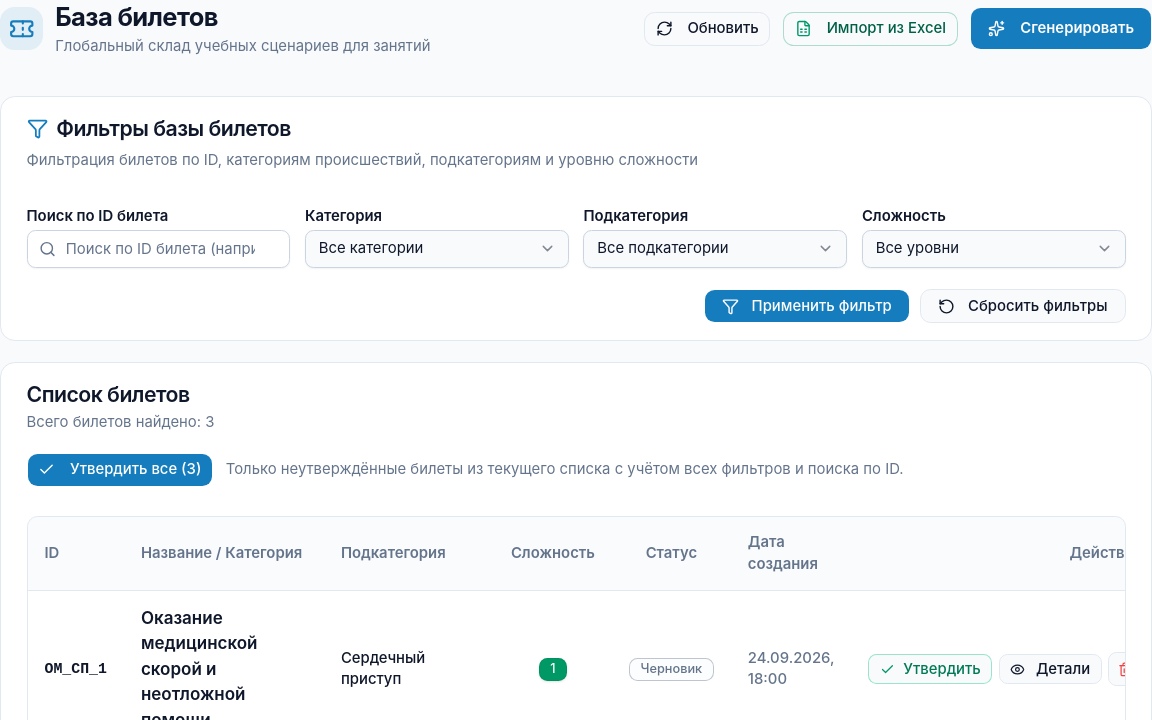
27.2 / ТЗ 30: База билетов и генерация › should open details modal with plot, and allow audio playback in details
Click details button for first ticket
Click the button "Детали" at (1050, 669), box [999,654,1102,684]
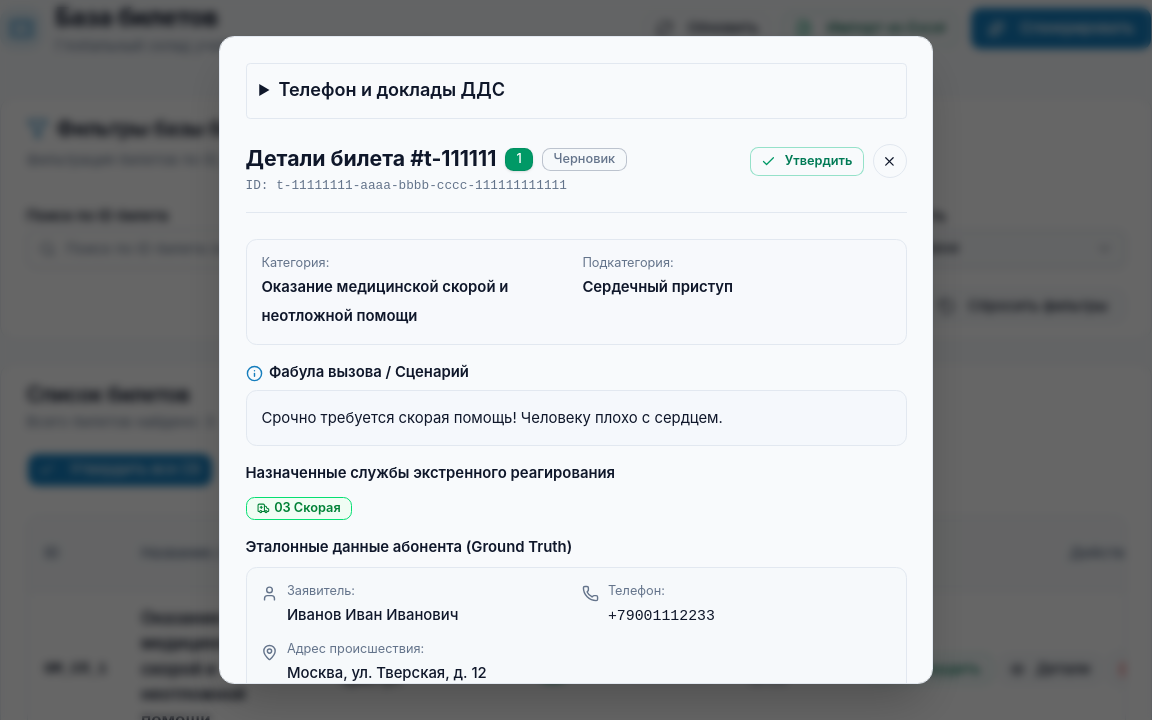
Expected: the dialog is shown
Expected: the text "Срочно требуется скорая помощь! Человеку плохо с сердцем." is shown, [246,390,906,446]
Expected: the text "+79001112233" is shown, [608,608,715,624]
Close modal
Click the button named "Закрыть" at (890, 161), box [872,144,906,178]
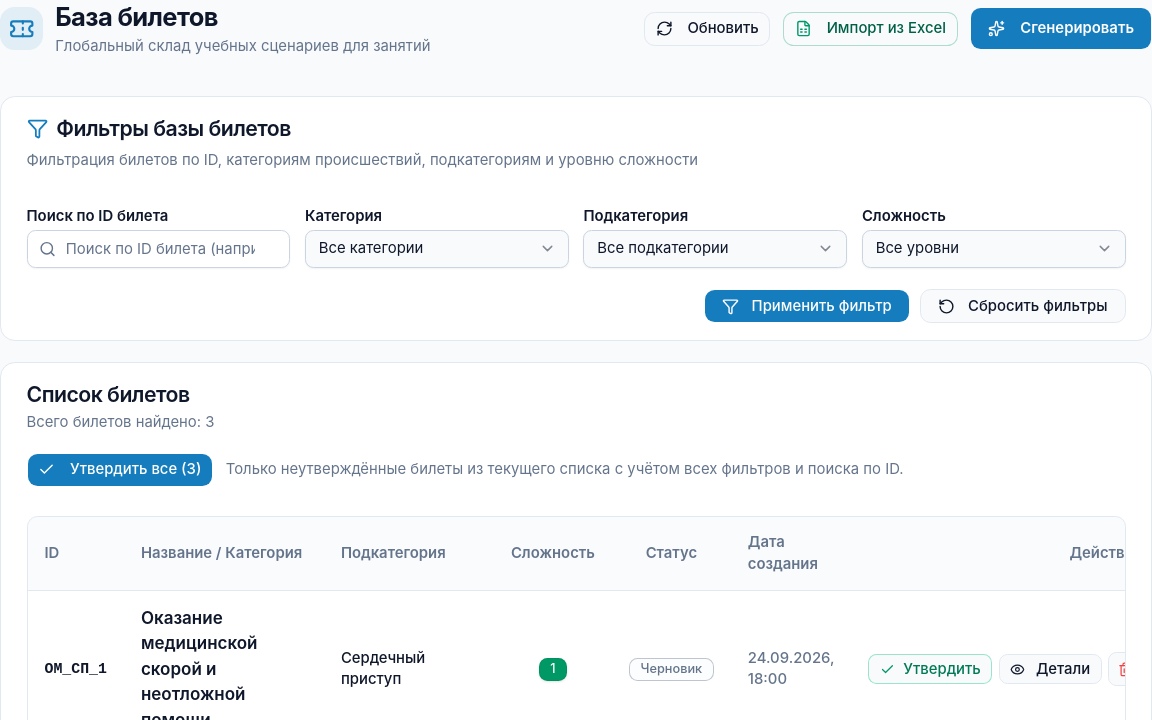
Expected: the dialog is gone
